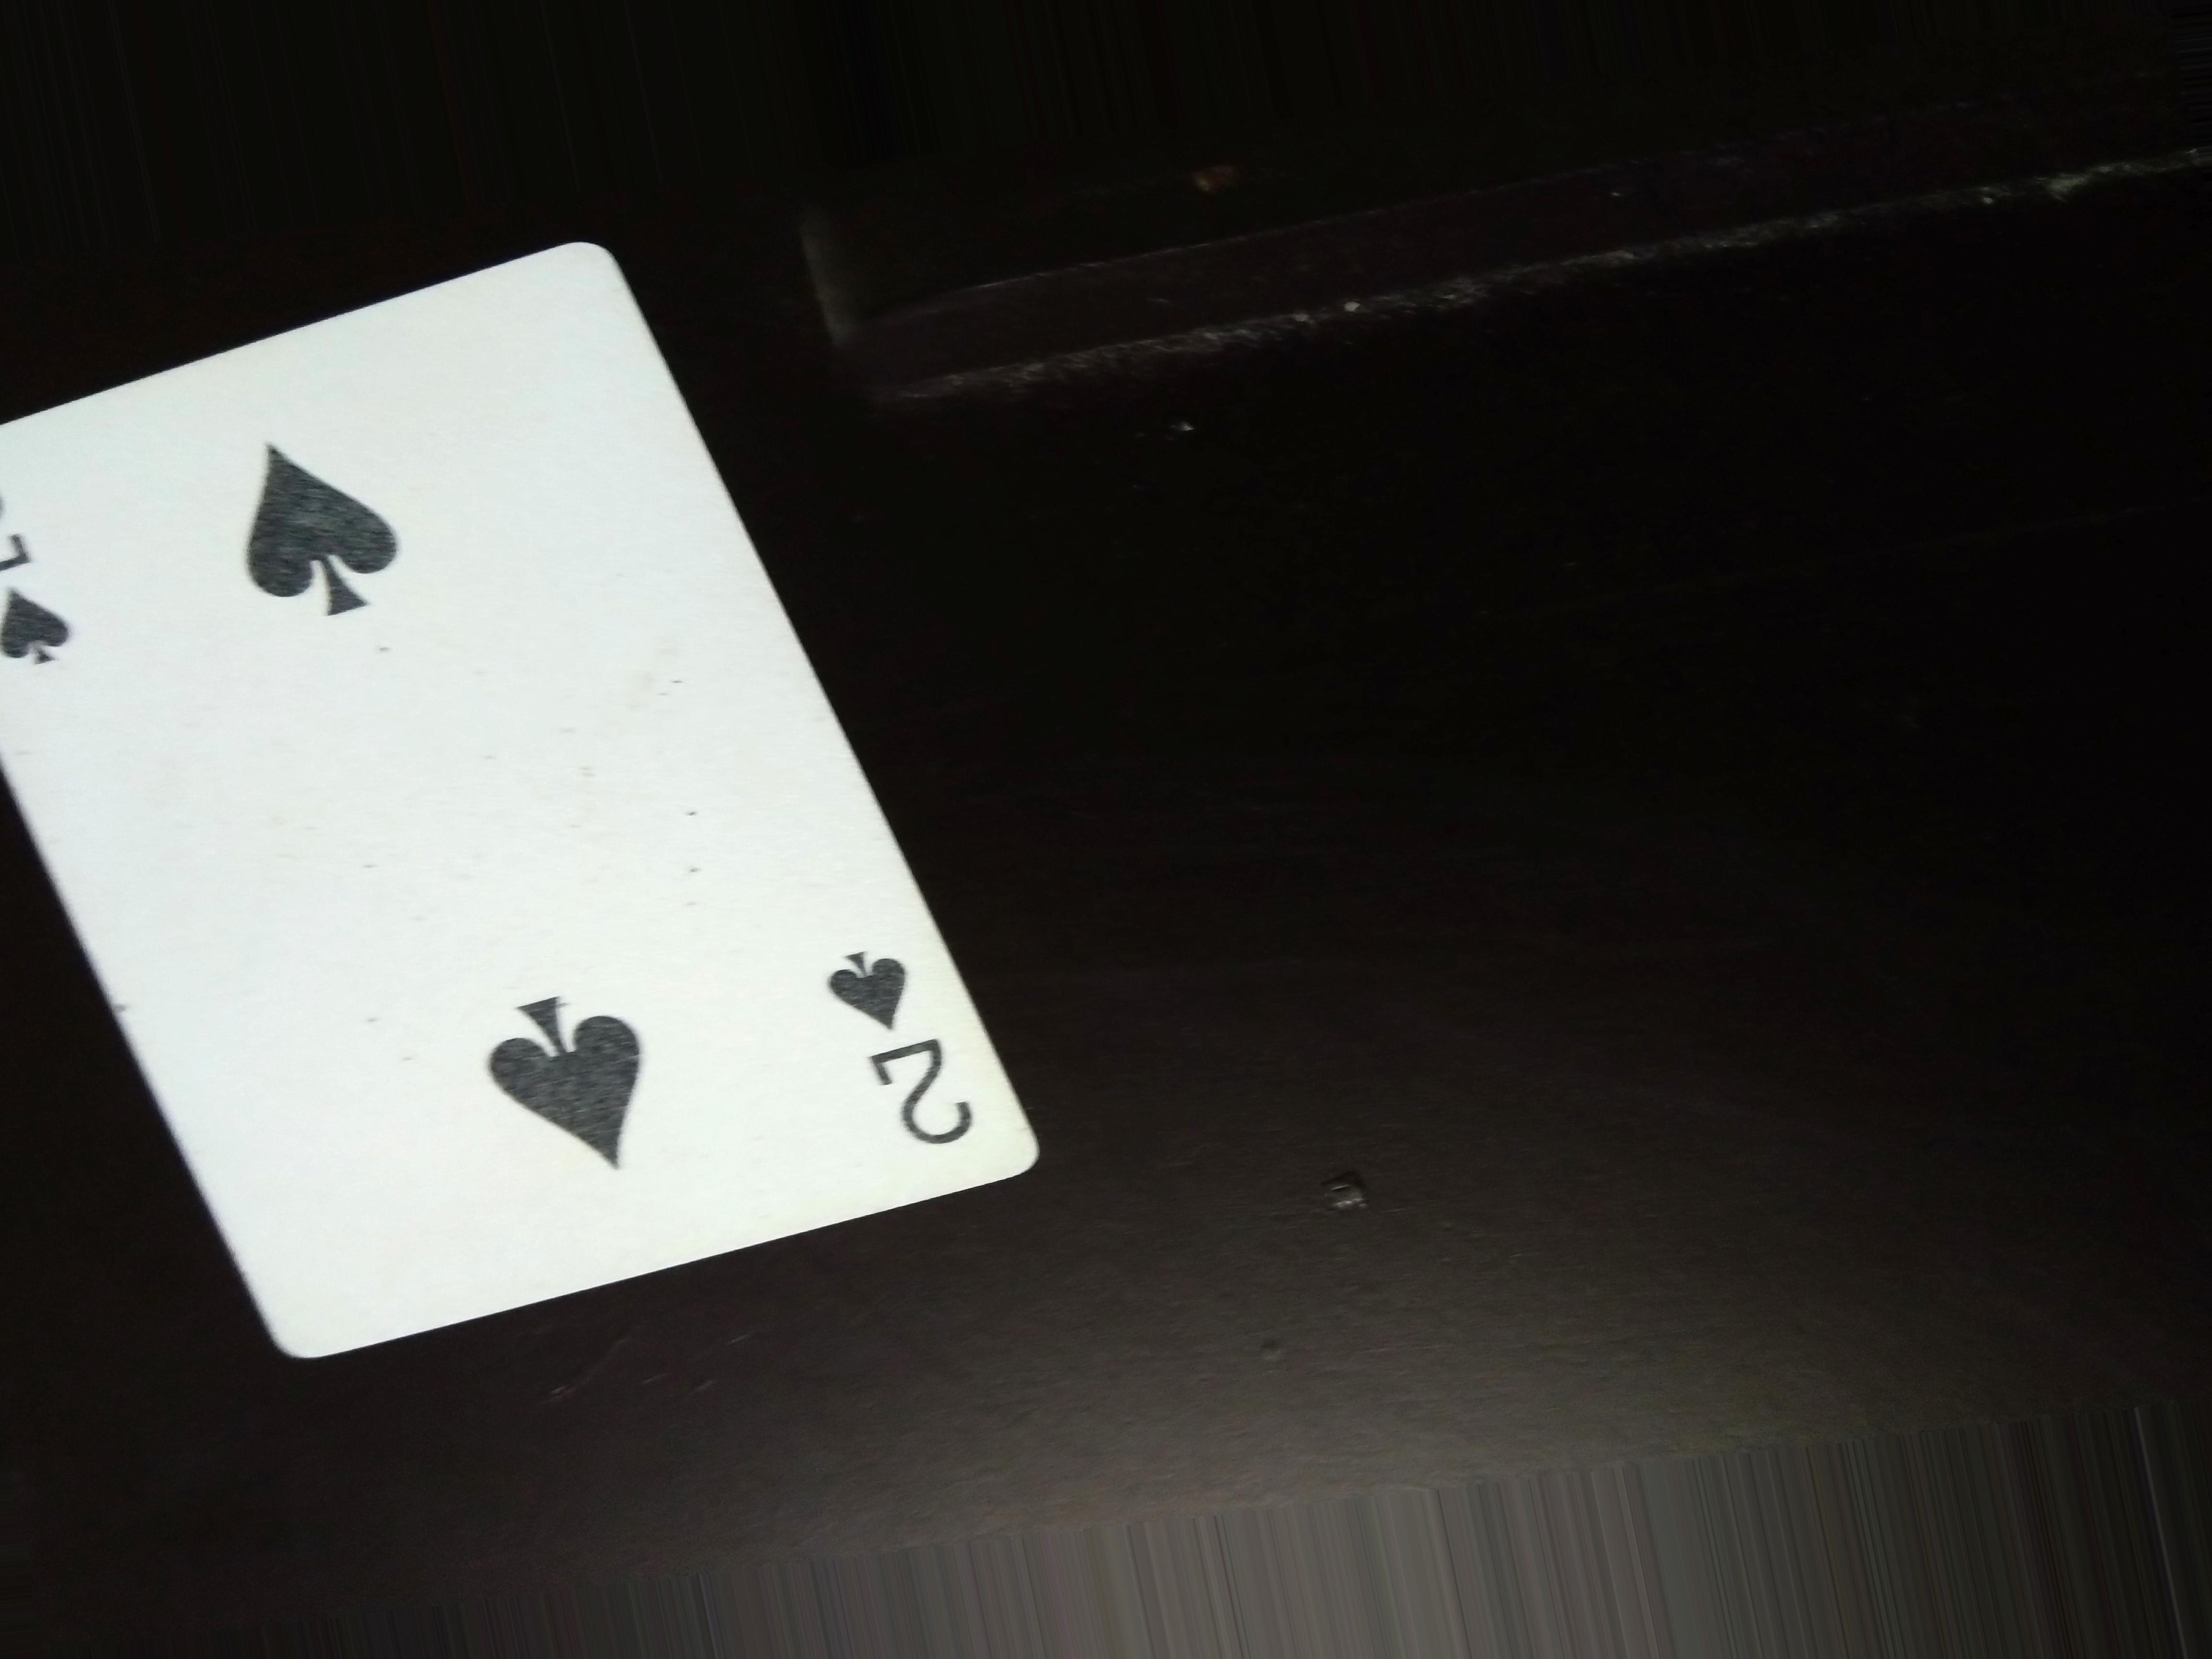2S: (796, 918, 984, 1175)
